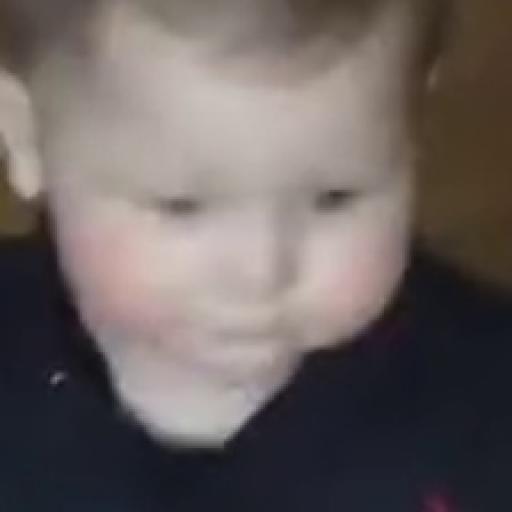Autism: (28, 10, 484, 360)
